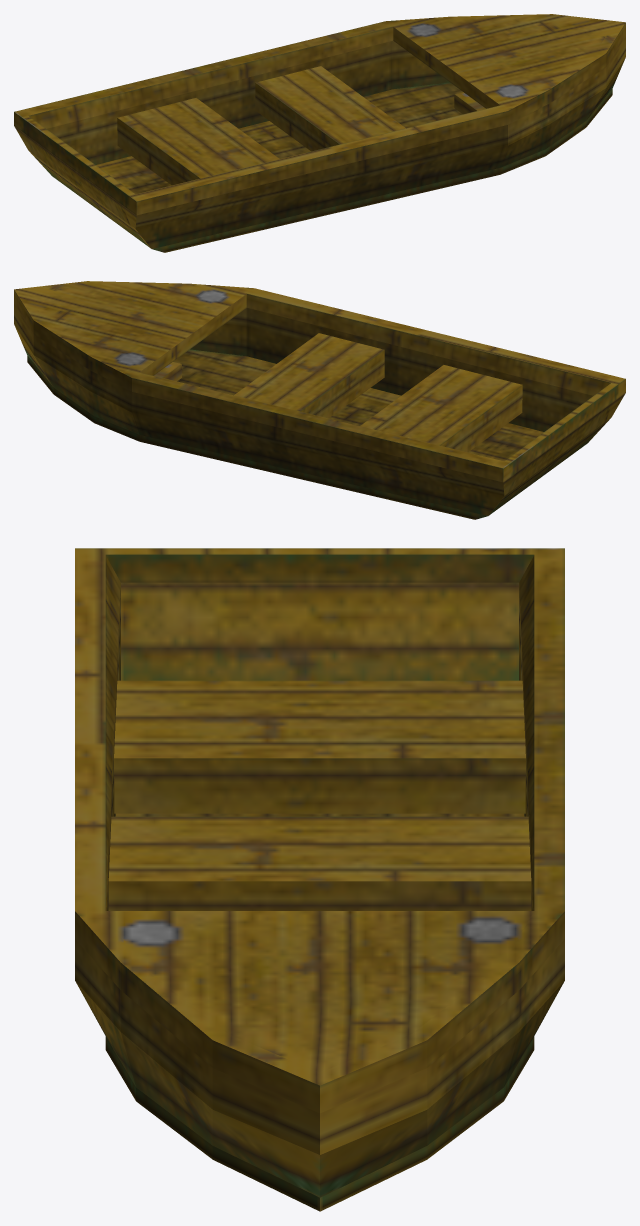
The model's file is Retro_Low_Poly_Boat.glb.
The picture shows the model from 3 angles, top to bottom: view 1: azimuth 30°, elevation 25°; view 2: azimuth 150°, elevation 25°; view 3: azimuth 270°, elevation 25°; orthographic projection. The views are drawn at different scales.
Parts seen in each view (by area): view 1: unnamed; view 2: unnamed; view 3: unnamed.
Part boxes in pixels (box(x1,y1,x2,y2)): unnamed: box(14, 14, 625, 252); unnamed: box(14, 281, 625, 519); unnamed: box(75, 548, 564, 1211).
Bounding box in the file's own units: 5.19 × 0.625 × 2.
Materials: 1 (1 with a texture image).
